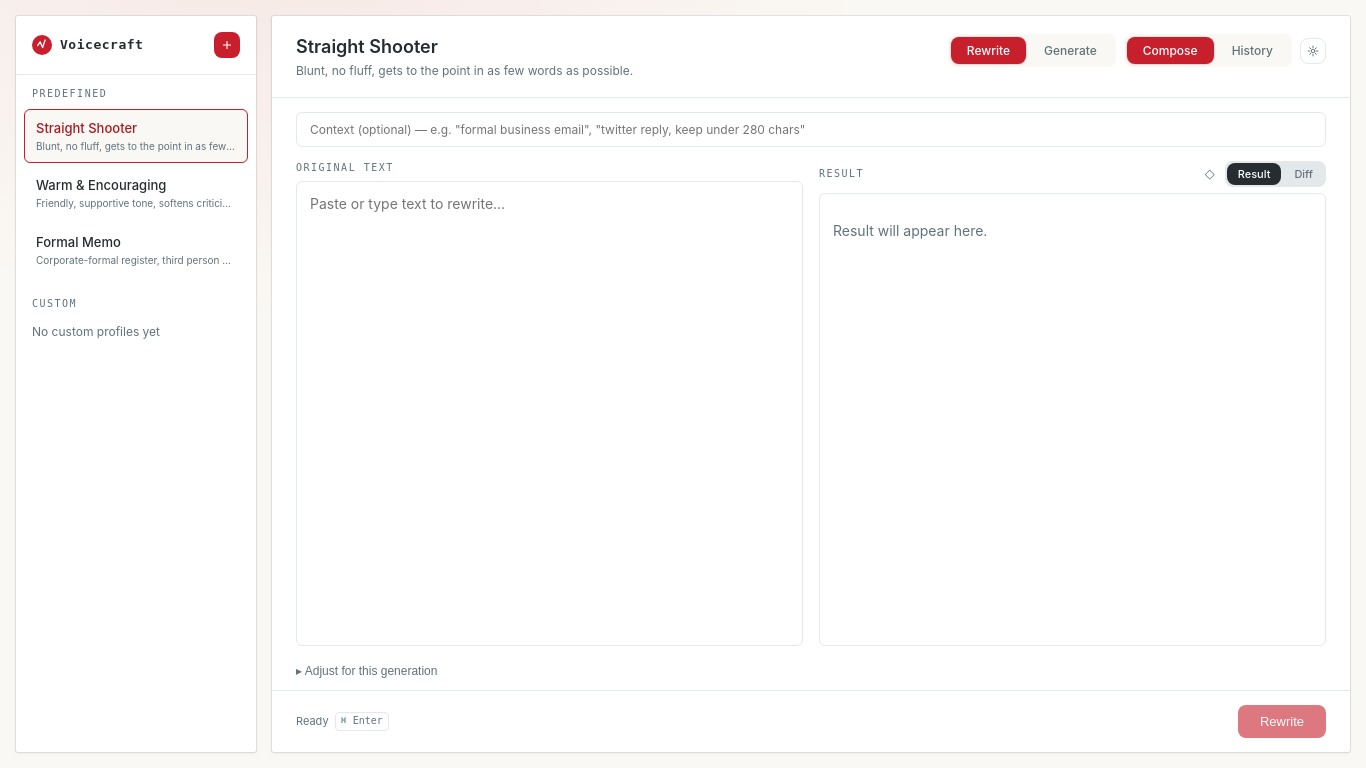
Test: App › creates a new custom profile from the modal
expect the text box with placeholder "Paste or type text to rewrite..." is shown: met, box [296, 181, 803, 646]
Click the button titled "New voice profile": (227, 45) [214, 32, 240, 58]
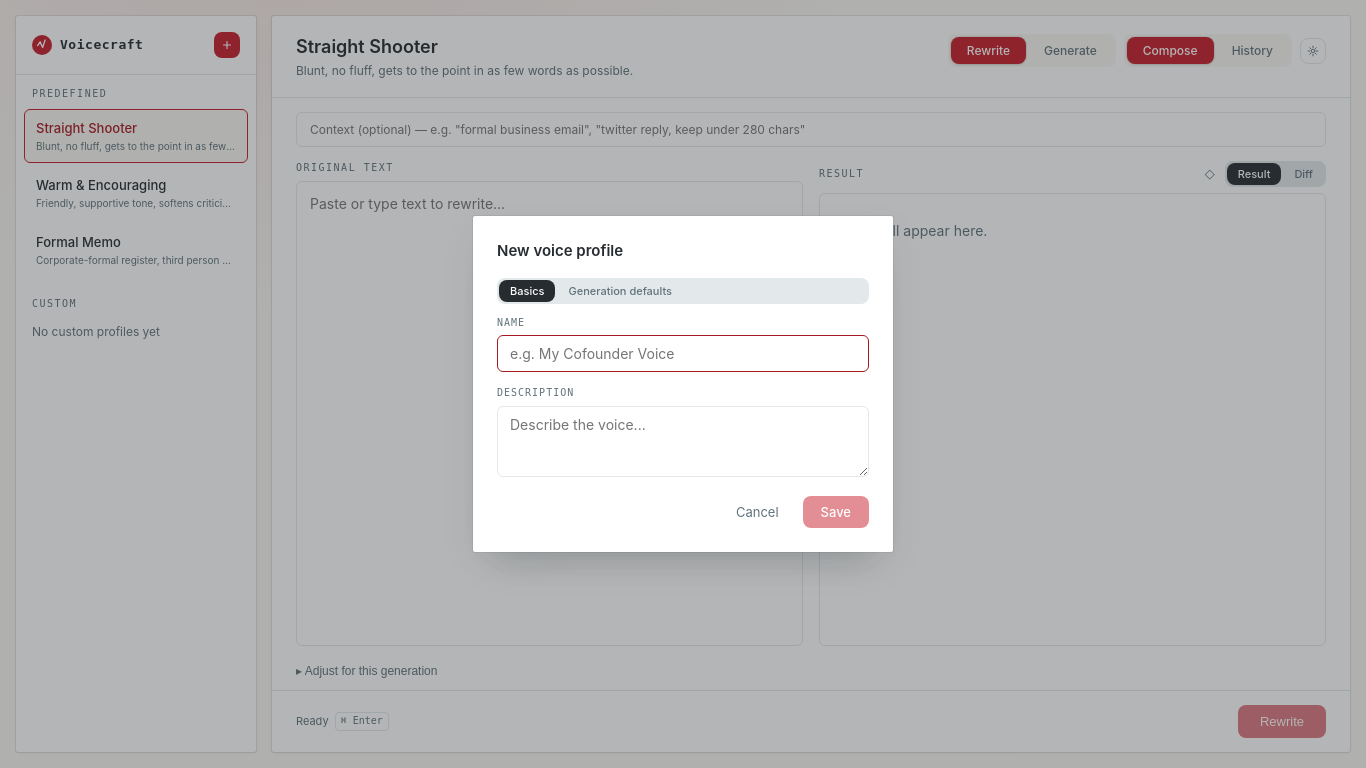
In the field with placeholder "e.g. My Cofounder Voice": (683, 354) [497, 335, 869, 372], type "My Cofounder Voice"
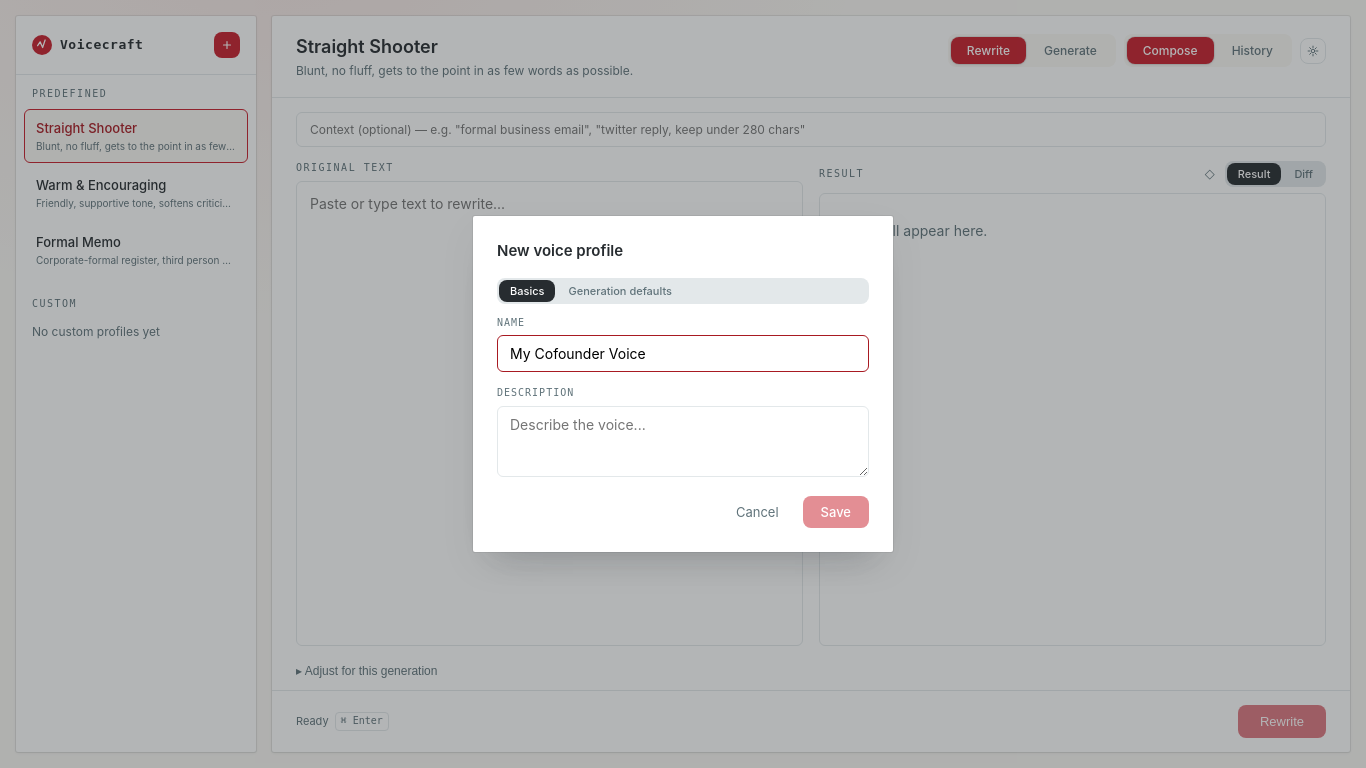
In the text box with placeholder "Describe the voice...": (683, 441) [497, 406, 869, 476], type "Short and direct."
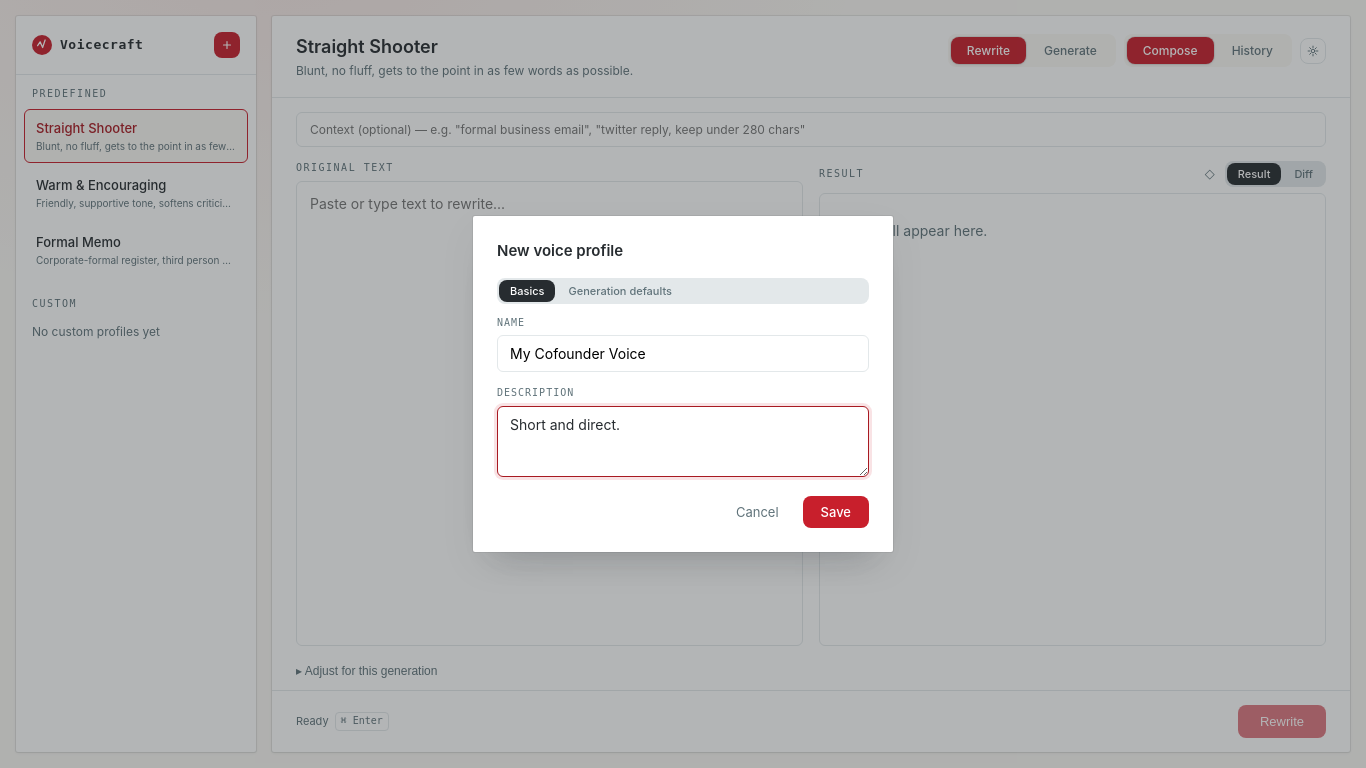
Click the button "Save": (836, 512) [803, 496, 869, 528]
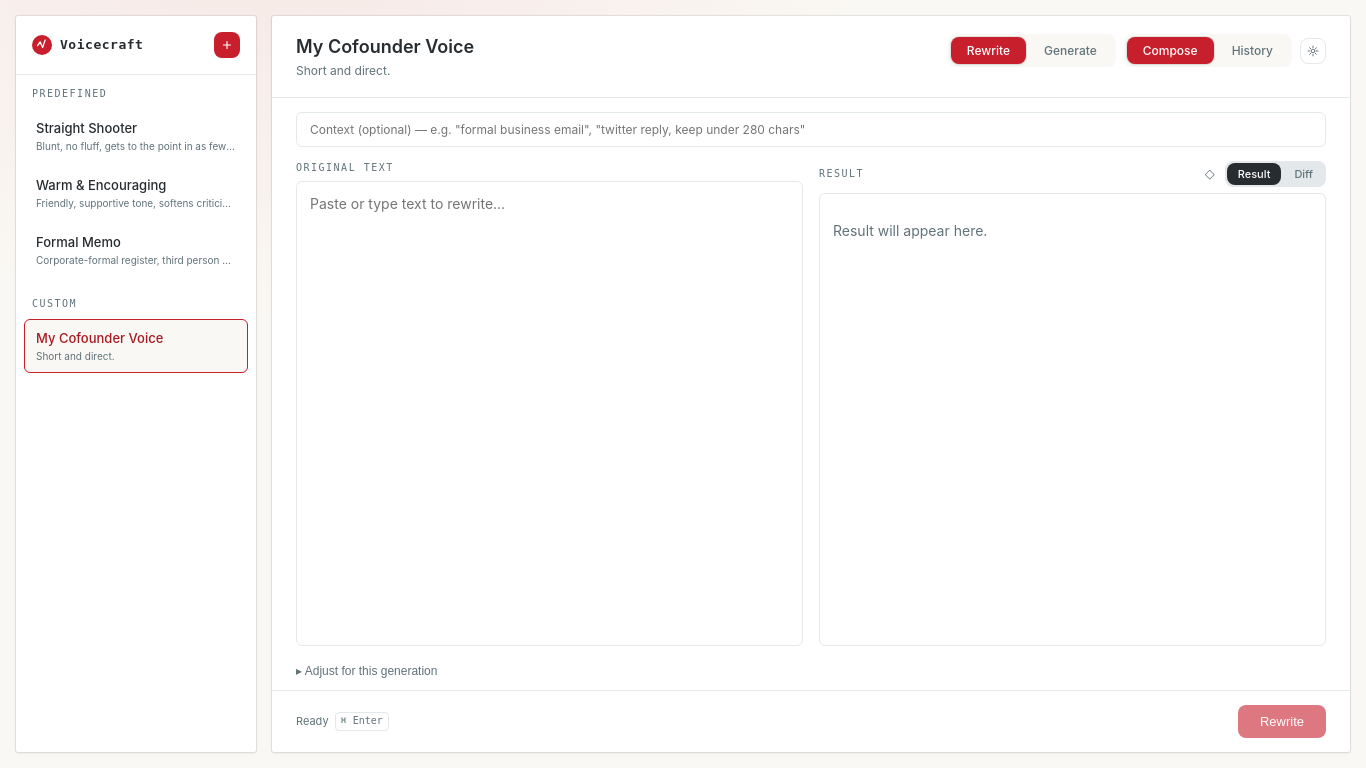
expect the text "My Cofounder Voice" below "Custom" is shown: met, box [36, 330, 163, 346]
